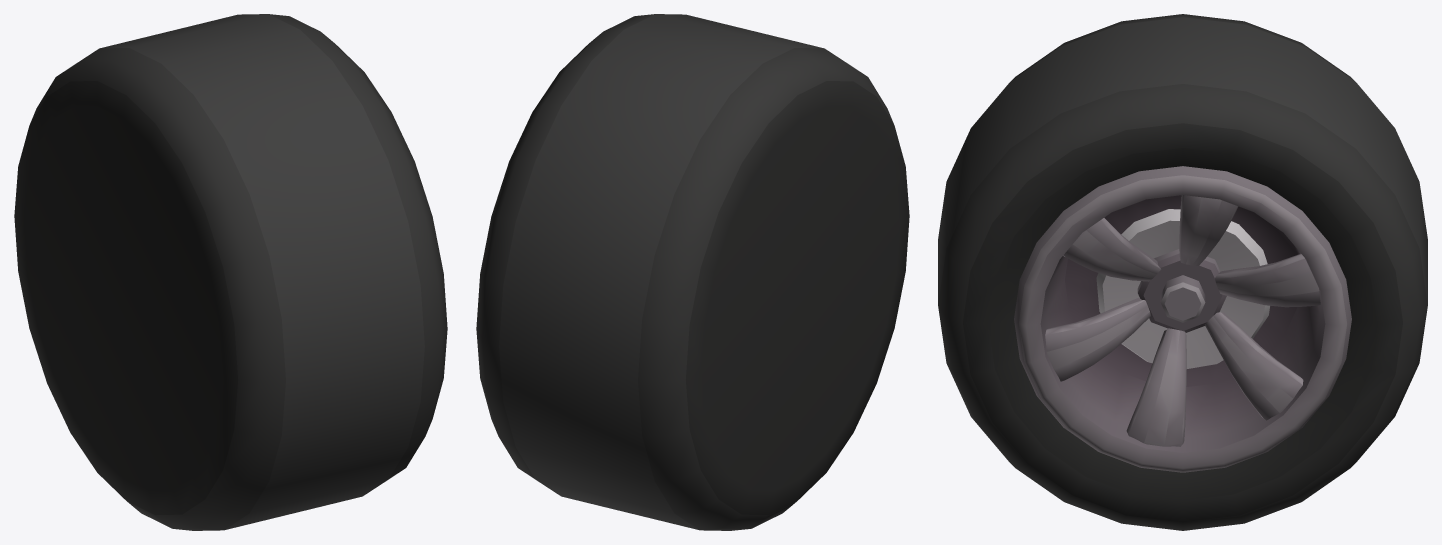
Rendered from wheel.glb.
3 renders of one model, left to right at view 1: azimuth 30°, elevation 25°; view 2: azimuth 150°, elevation 25°; view 3: azimuth 270°, elevation 25°, orthographic.
Parts seen in each view (by area): view 1: wheel_L1; view 2: wheel_L1; view 3: wheel_L1.
Boxes of the visible parts, x1,y1,x2,y2 form: wheel_L1: (14,14,447,530); wheel_L1: (476,14,909,530); wheel_L1: (938,14,1427,530).
Bounding box in the file's own units: 0.2766 × 0.5425 × 0.5425.
Materials: 1 (1 with a texture image).
